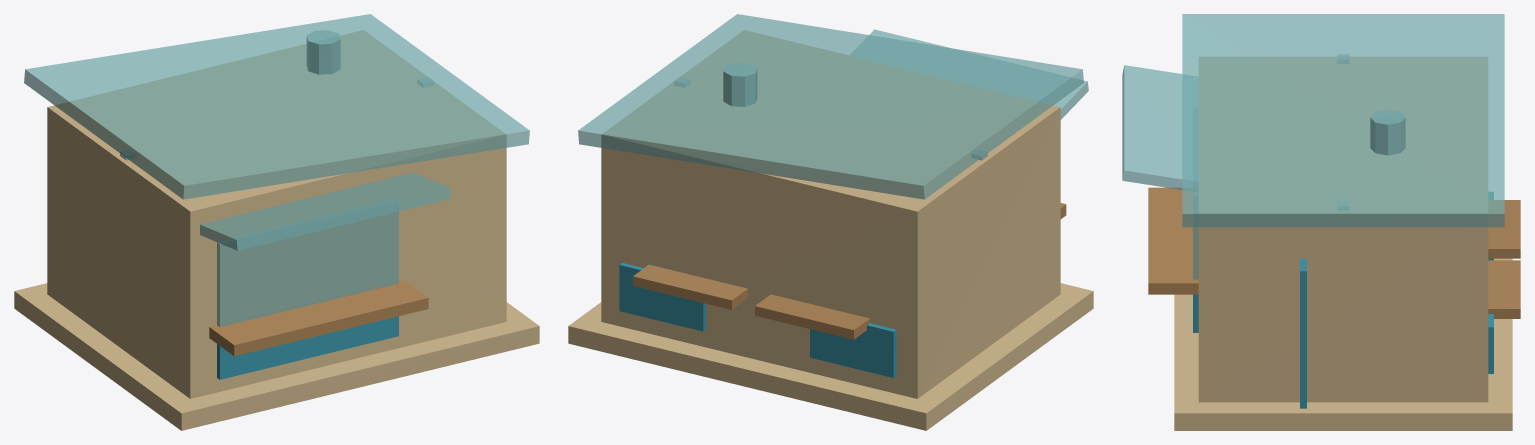
The model's file is cafe.source.glb.
3 renders of one model, left to right at view 1: azimuth 30°, elevation 25°; view 2: azimuth 150°, elevation 25°; view 3: azimuth 270°, elevation 25°, orthographic.
Visible parts, largest first — view 1: cafe-compact-enclosed-shell-mesh, cafe-shallow-mono-pitch-roof-mesh, cafe-grounded-cafe-slab-mesh, cafe-open-serving-window-mesh, cafe-slim-serving-canopy-mesh, cafe-fixed-serving-counter-mesh, cafe-muted-teal-counter-panel-mesh, cafe-small-roof-vent-mesh; view 2: cafe-compact-enclosed-shell-mesh, cafe-shallow-mono-pitch-roof-mesh, cafe-grounded-cafe-slab-mesh, cafe-slim-serving-canopy-mesh, cafe-teal-rear-panel--1.25-mesh, cafe-teal-rear-panel-1.25-mesh, cafe-built-in-standing-ledge-0.8-mesh, cafe-built-in-standing-ledge--0.8-mesh, cafe-small-roof-vent-mesh; view 3: cafe-compact-enclosed-shell-mesh, cafe-shallow-mono-pitch-roof-mesh, cafe-grounded-cafe-slab-mesh, cafe-slim-serving-canopy-mesh, cafe-fixed-serving-counter-mesh, cafe-built-in-standing-ledge--0.8-mesh, cafe-built-in-standing-ledge-0.8-mesh, cafe-small-roof-vent-mesh, cafe-side-entrance-door-mesh, cafe-open-serving-window-mesh.
Boxes of the visible parts, x1,y1,x2,y2 form: cafe-compact-enclosed-shell-mesh: [47, 30, 506, 398]; cafe-shallow-mono-pitch-roof-mesh: [24, 14, 529, 199]; cafe-grounded-cafe-slab-mesh: [14, 283, 539, 430]; cafe-open-serving-window-mesh: [217, 199, 398, 326]; cafe-slim-serving-canopy-mesh: [200, 172, 450, 250]; cafe-fixed-serving-counter-mesh: [209, 279, 428, 356]; cafe-muted-teal-counter-panel-mesh: [217, 316, 398, 379]; cafe-small-roof-vent-mesh: [306, 30, 340, 74]; cafe-compact-enclosed-shell-mesh: [601, 30, 1060, 398]; cafe-shallow-mono-pitch-roof-mesh: [578, 14, 1083, 199]; cafe-grounded-cafe-slab-mesh: [568, 283, 1093, 430]; cafe-slim-serving-canopy-mesh: [850, 29, 1088, 119]; cafe-teal-rear-panel--1.25-mesh: [810, 323, 896, 377]; cafe-teal-rear-panel-1.25-mesh: [619, 263, 706, 331]; cafe-built-in-standing-ledge-0.8-mesh: [633, 264, 747, 309]; cafe-built-in-standing-ledge--0.8-mesh: [755, 294, 869, 339]; cafe-small-roof-vent-mesh: [723, 62, 757, 106]; cafe-compact-enclosed-shell-mesh: [1198, 57, 1488, 402]; cafe-shallow-mono-pitch-roof-mesh: [1182, 14, 1504, 227]; cafe-grounded-cafe-slab-mesh: [1174, 258, 1512, 430]; cafe-slim-serving-canopy-mesh: [1122, 65, 1197, 191]; cafe-fixed-serving-counter-mesh: [1148, 187, 1198, 294]; cafe-built-in-standing-ledge--0.8-mesh: [1488, 200, 1520, 258]; cafe-built-in-standing-ledge-0.8-mesh: [1488, 260, 1520, 318]; cafe-small-roof-vent-mesh: [1370, 110, 1405, 155]; cafe-side-entrance-door-mesh: [1300, 258, 1306, 408]; cafe-open-serving-window-mesh: [1193, 192, 1198, 279].
Size of the model in its own units: 4.77 by 3.21 by 4.47.
